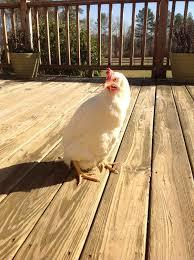AbNormal: (53, 67, 143, 182)
